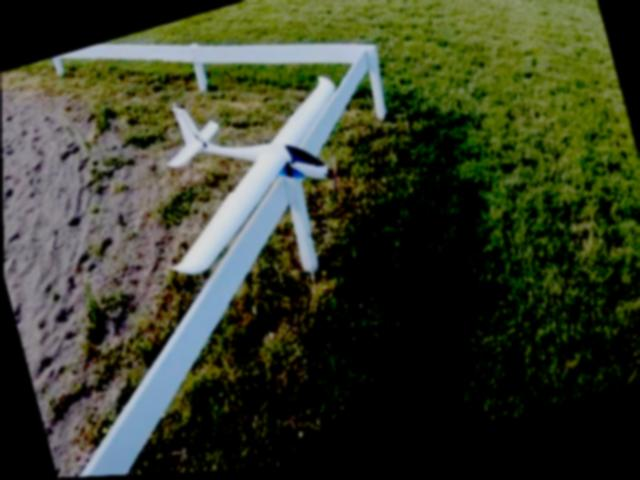iha: (122, 52, 375, 285)
